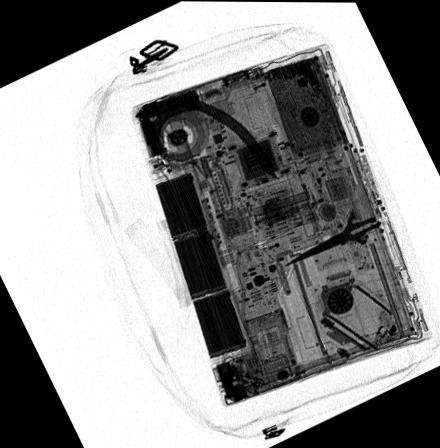Scissors: (273, 187, 399, 271)
